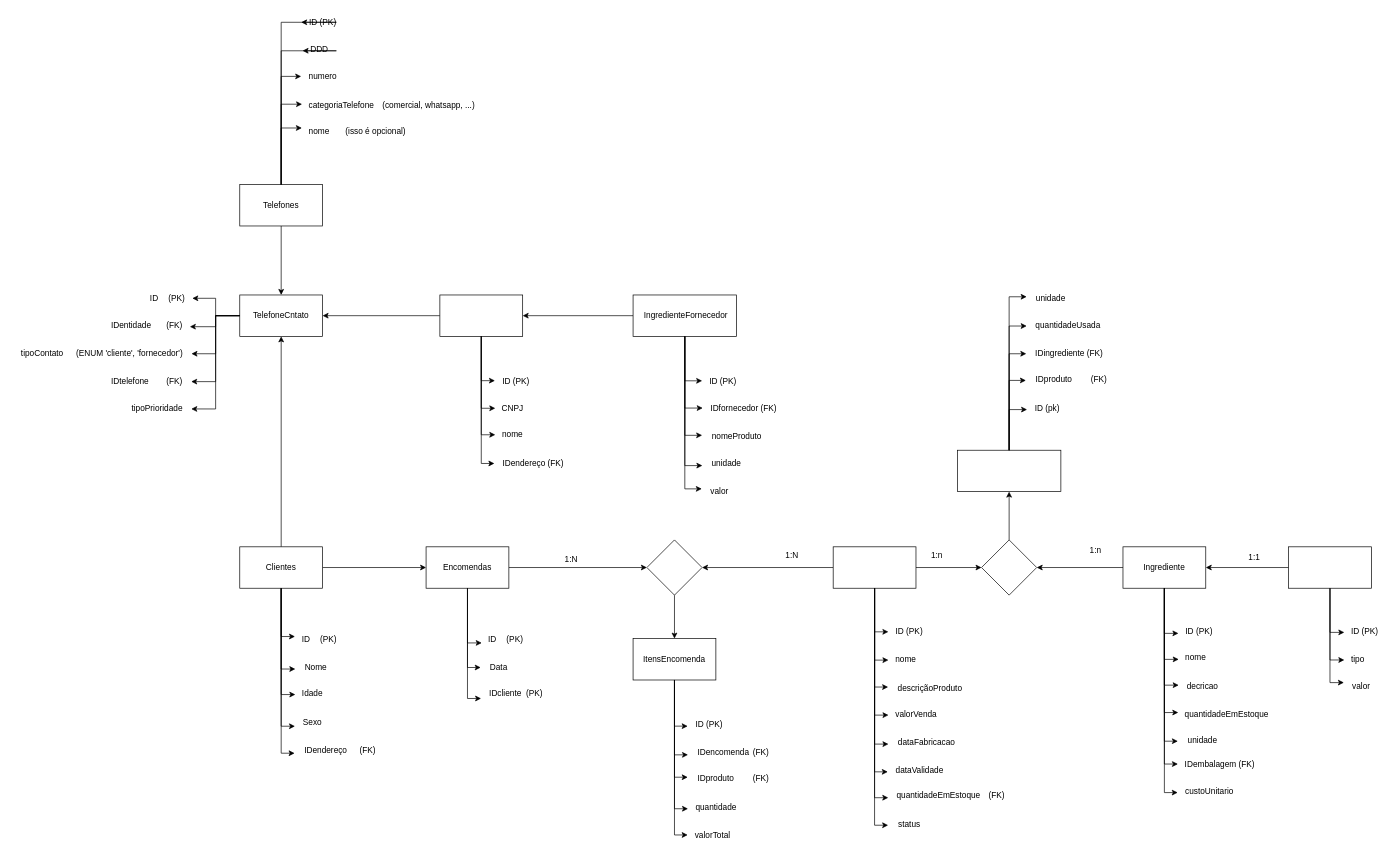
The diagram is 1397 pixels wide and 857 high, and some of its shapes have lost their labels. Here are the shapes that lost their labels. From the top down, the centre of each, then its label:
At point 481,315: "Fornecedor".
At point 1009,471: "IngredienteEmProduto".
At point 874,567: "Produto".
At point 1329,567: "Embalagem".
